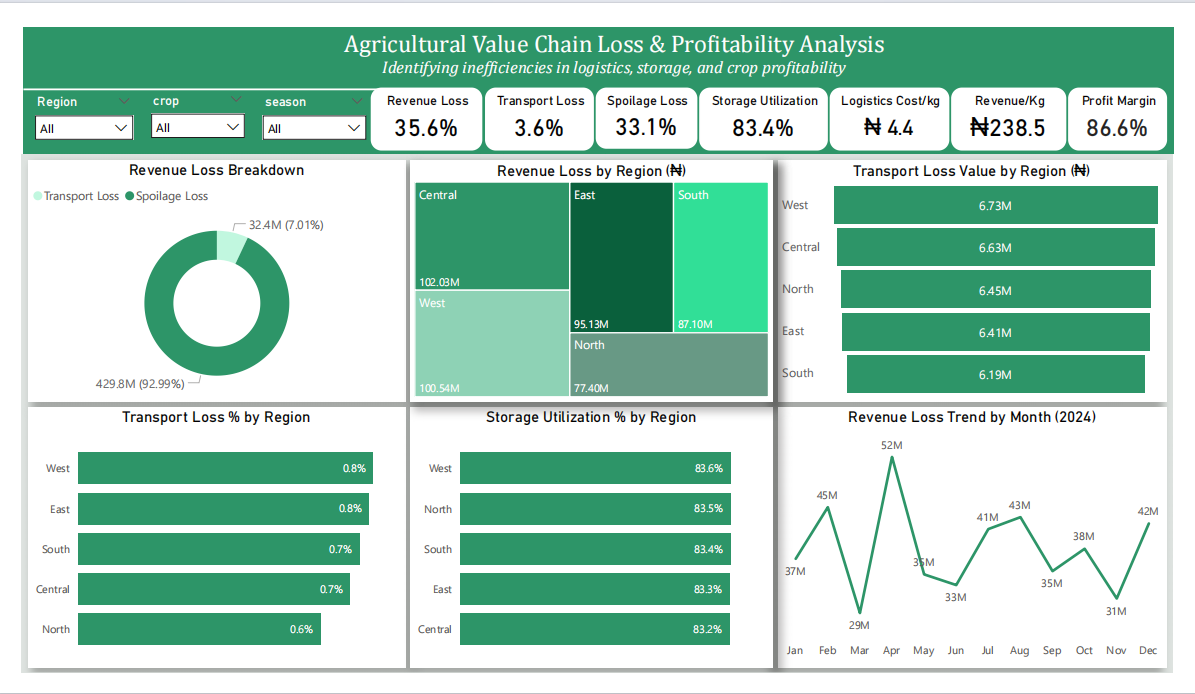

This screenshot's page, from the dashboard's own definition file:
{"tool":"powerbi","page":{"name":"Loss Analysis","canvas":[1280,720],"ordinal":0},"visuals":[{"type":"card","title":"Transport Loss","fields":{"Values":["public farm_production.transport_loss_pct"]},"box":[514.3,69.6,120.9,69.6],"z":0,"group":"g2"},{"type":"shape","box":[0,144.1,1278.8,576.5],"z":0},{"type":"shape","box":[1.7,3.3,1278.8,140.8],"z":1000},{"type":"card","title":"Spoilage Loss","fields":{"Values":["public sales_transaction.spoilage_loss_pct"]},"box":[637.7,69.6,112.6,67.9],"z":1000,"group":"g2"},{"type":"card","title":"Revenue/Kg","fields":{"Values":["public sales_transaction.revenue_per_kg"]},"box":[1032.8,69.6,127.5,69.6],"z":2000,"group":"g2"},{"type":"slicer","title":"crop","fields":{"Values":["public farm_production.crop"]},"box":[134.2,70.9,124.2,72.9],"z":2000,"group":"g1"},{"type":"funnel","title":"Transport Loss Value by Region (₦)","fields":{"Category":["public farm_production.region"],"Y":["public sales_transaction.transport_loss"]},"box":[841.5,150.7,430.7,268.3],"z":2000},{"type":"textbox","box":[152.4,0,1013.8,72.9],"z":3000},{"type":"card","title":"Revenue Loss","fields":{"Values":["public sales_transaction.estimated_revenue_loss"]},"box":[387.6,69.6,124.2,69.6],"z":3000,"group":"g2"},{"type":"slicer","title":"Season","fields":{"Values":["public farm_production.season"]},"box":[258.4,72.6,134.2,71.2],"z":3000,"group":"g1"},{"type":"card","title":"Logistics Cost/kg","fields":{"Values":["public sales_transaction.logistic_cost_per_kg"]},"box":[897.8,69.6,132.5,69.6],"z":4000,"group":"g2"},{"type":"slicer","title":"Region","fields":{"Values":["public farm_production.region"]},"box":[5,72.6,129.2,71.2],"z":4000,"group":"g1"},{"type":"donutChart","title":"Revenue Loss Breakdown","fields":{"Y":["public sales_transaction.transport_loss","public sales_transaction.spoilage_loss"]},"box":[6.6,150.7,420.7,268.3],"z":4000},{"type":"shape","box":[1.7,61.3,399.2,21.5],"z":5000},{"type":"card","title":"Profit Margin ","fields":{"Values":["public sales_transaction.pct_profit_margin"]},"box":[1162.8,69.6,109.3,69.6],"z":5000,"group":"g2"},{"type":"card","title":"Storage Utilization","fields":{"Values":["public sales_transaction.storage_utilization"]},"box":[752.9,69.6,142.5,69.6],"z":6000,"group":"g2"},{"type":"group","id":"g1","title":"Group 2","box":[5,70.9,387.6,72.9],"z":6000},{"type":"group","id":"g2","title":"Group 1","box":[387.6,69.6,884.6,69.6],"z":7000},{"type":"clusteredColumnChart","title":"Revenue Loss by Region (₦)","fields":{"Category":["public farm_production.region"],"Y":["public sales_transaction.revenue_loss"]},"box":[432.3,150.7,402.5,268.3],"z":8000},{"type":"clusteredBarChart","title":"Transport Loss % by Region","fields":{"Category":["public market_prices.region"],"Y":["public farm_production.transport_loss_pct"]},"box":[6.6,425.7,420.7,288.2],"z":9000},{"type":"lineChart","title":"Revenue Loss Trend by Month (2024)","fields":{"Y":["public sales_transaction.revenue_loss"],"Category":["public sales_transaction.Month_short"]},"box":[841.5,425.7,430.7,288.2],"z":10000},{"type":"clusteredBarChart","title":"Storage Utilization % by Region","fields":{"Category":["public market_prices.region"],"Y":["public sales_transaction.storage_utilization"]},"box":[432.3,425.7,402.5,288.2],"z":11000},{"type":"treemap","title":"Revenue Loss by Region (₦)","fields":{"Group":["public farm_production.region"],"Values":["public sales_transaction.revenue_loss"]},"box":[432.3,150.7,402.5,268.3],"z":12000}]}

Visuals, with their boxes in screenshot pixels (x1, y1, x2, y2):
"Transport Loss" card: (left=482, top=84, right=589, bottom=145)
shape: (left=25, top=150, right=1161, bottom=662)
shape: (left=26, top=25, right=1162, bottom=150)
"Spoilage Loss" card: (left=591, top=84, right=691, bottom=144)
"Revenue/Kg" card: (left=942, top=84, right=1055, bottom=145)
"crop" slicer: (left=144, top=85, right=254, bottom=149)
"Transport Loss Value by Region (₦)" funnel: (left=772, top=156, right=1155, bottom=394)
textbox: (left=160, top=22, right=1061, bottom=87)
"Revenue Loss" card: (left=369, top=84, right=479, bottom=145)
"Season" slicer: (left=254, top=86, right=374, bottom=149)
"Logistics Cost/kg" card: (left=822, top=84, right=940, bottom=145)
"Region" slicer: (left=29, top=86, right=144, bottom=149)
"Revenue Loss Breakdown" donutChart: (left=31, top=156, right=404, bottom=394)
shape: (left=26, top=76, right=381, bottom=95)
"Profit Margin " card: (left=1058, top=84, right=1155, bottom=145)
"Storage Utilization" card: (left=694, top=84, right=820, bottom=145)
"Group 2" group: (left=29, top=85, right=374, bottom=149)
"Group 1" group: (left=369, top=84, right=1155, bottom=145)
"Revenue Loss by Region (₦)" clusteredColumnChart: (left=409, top=156, right=766, bottom=394)
"Transport Loss % by Region" clusteredBarChart: (left=31, top=400, right=404, bottom=656)
"Revenue Loss Trend by Month (2024)" lineChart: (left=772, top=400, right=1155, bottom=656)
"Storage Utilization % by Region" clusteredBarChart: (left=409, top=400, right=766, bottom=656)
"Revenue Loss by Region (₦)" treemap: (left=409, top=156, right=766, bottom=394)
